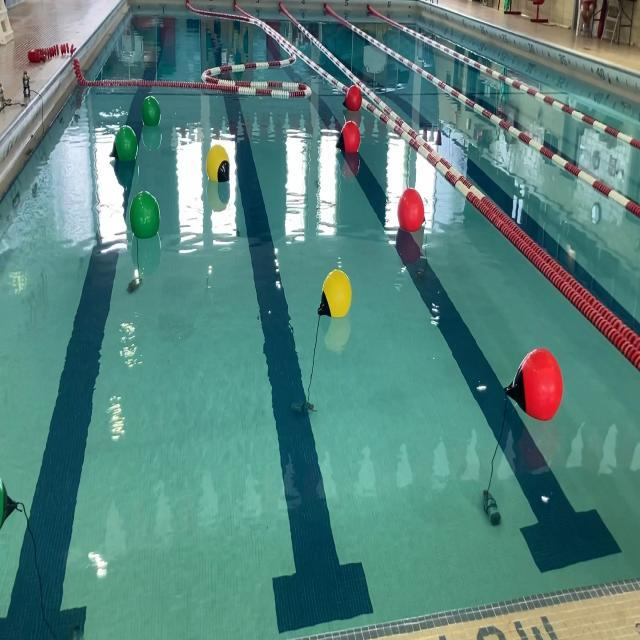buoy: (503, 346, 564, 424), (314, 266, 354, 322), (128, 187, 162, 240), (0, 466, 25, 538), (397, 183, 427, 236), (108, 125, 140, 164), (205, 140, 231, 186), (336, 119, 362, 156), (140, 90, 164, 128), (342, 84, 364, 114)
